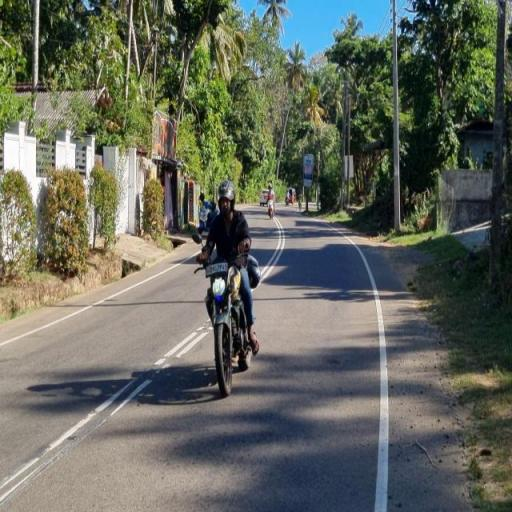double_white_line: (0, 316, 210, 504), (155, 320, 210, 363)
